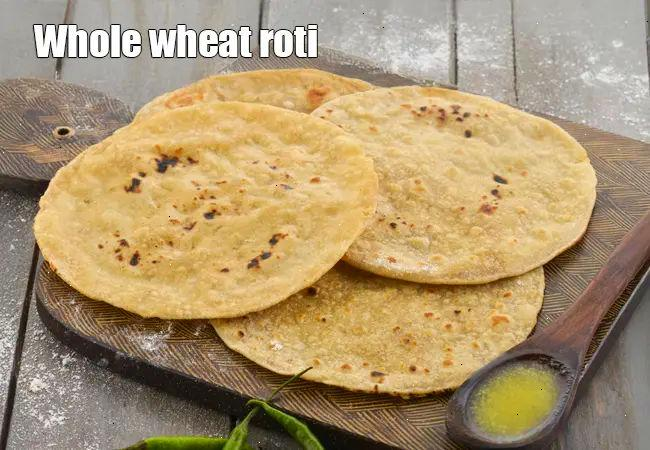roti phulka: (35, 70, 530, 349)
